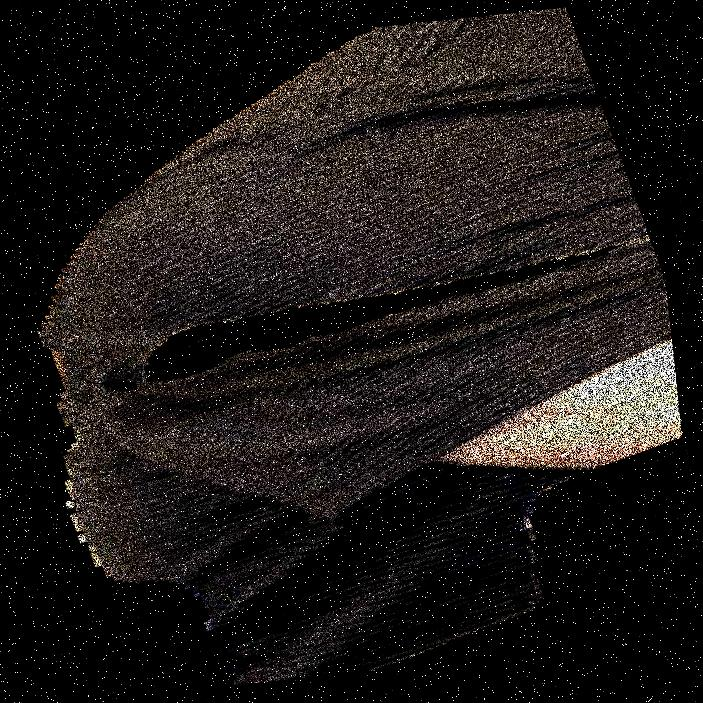Pessoa: (90, 0, 702, 702)
